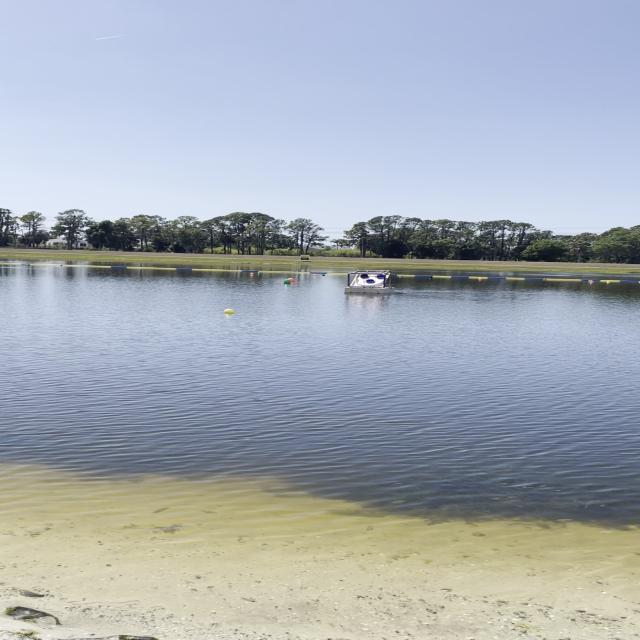buoy: (223, 308, 234, 313), (284, 280, 292, 284), (287, 278, 295, 282), (428, 276, 433, 279), (250, 272, 254, 275), (313, 274, 317, 276), (257, 272, 261, 274), (322, 274, 326, 276), (590, 280, 594, 282), (606, 280, 610, 282), (399, 275, 402, 277), (479, 278, 482, 280)
